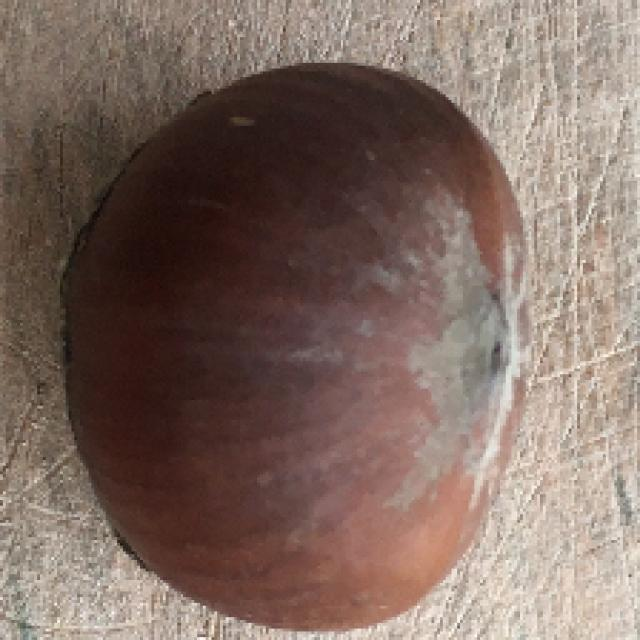DamagedHazelnut: (63, 61, 537, 629)
